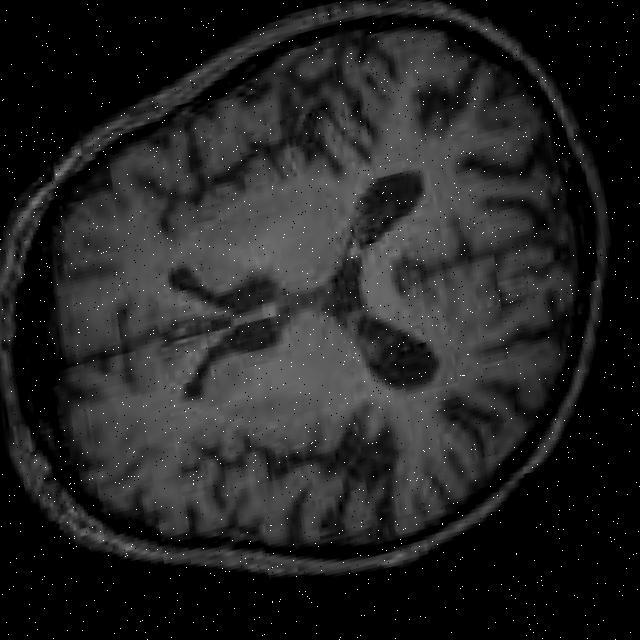NoTumor: (0, 0, 640, 633)
